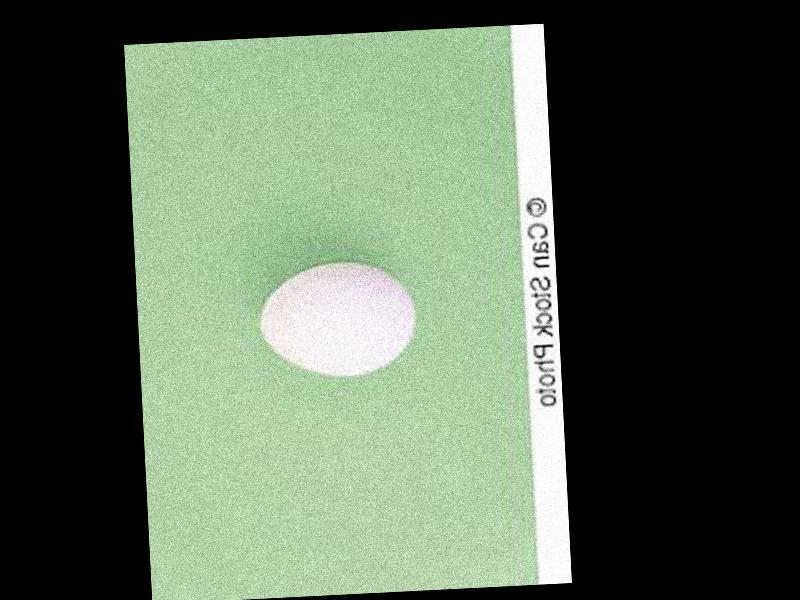Eggs: (258, 259, 416, 378)
